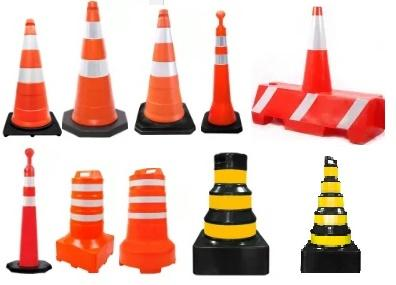traffic_cone: (251, 5, 386, 145), (192, 152, 270, 276), (61, 0, 128, 137), (134, 8, 196, 135), (300, 155, 361, 273), (3, 18, 62, 137), (55, 169, 114, 273), (119, 167, 176, 274), (6, 147, 52, 274), (200, 9, 243, 134)
